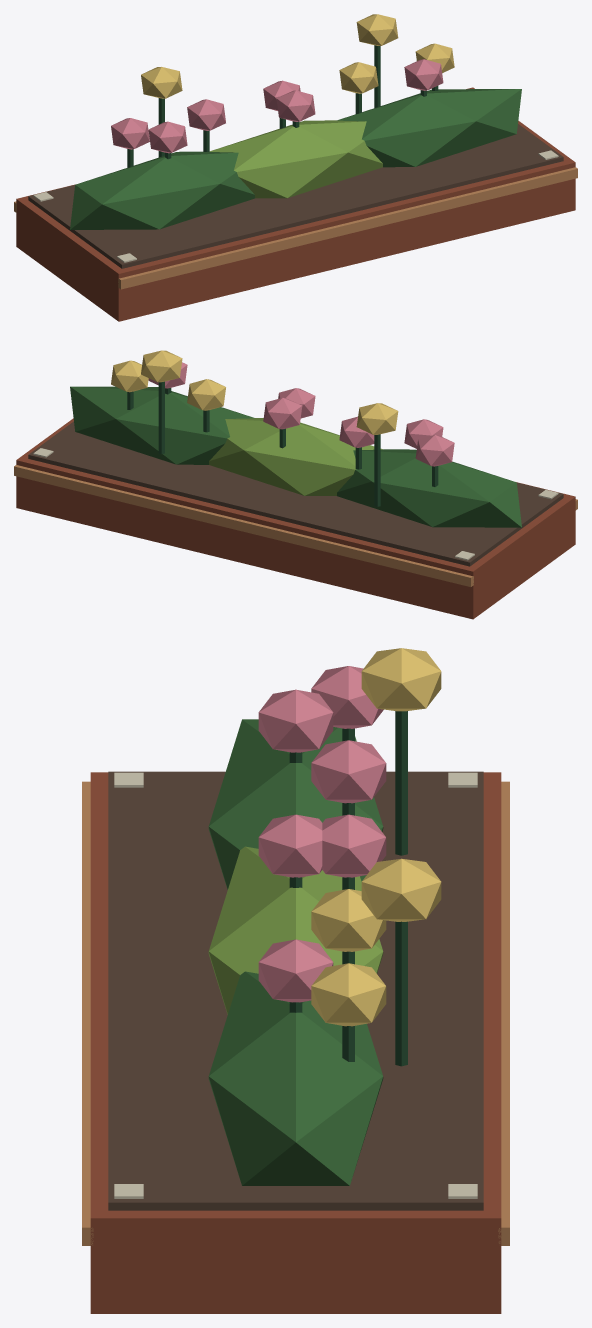
File: Backyard_FlowerBed_Showcase.glb
3 renders of one model, top to bottom at view 1: azimuth 30°, elevation 25°; view 2: azimuth 150°, elevation 25°; view 3: azimuth 270°, elevation 25°, orthographic. The views are drawn at different scales.
Visible parts, largest first — view 1: Backyard_FlowerBed_Showcase; view 2: Backyard_FlowerBed_Showcase; view 3: Backyard_FlowerBed_Showcase.
Part boxes in pixels (<box>): Backyard_FlowerBed_Showcase: <box>14,14,577,321</box>; Backyard_FlowerBed_Showcase: <box>14,350,577,619</box>; Backyard_FlowerBed_Showcase: <box>82,648,509,1313</box>.
Size of the model in its own units: 3.6 by 1.27 by 1.46.
